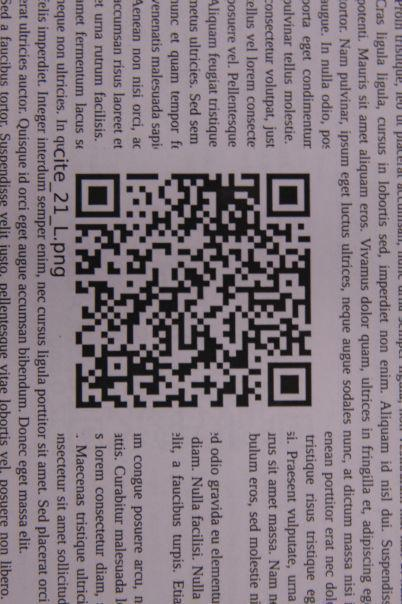qr_code: (75, 172, 312, 409)
